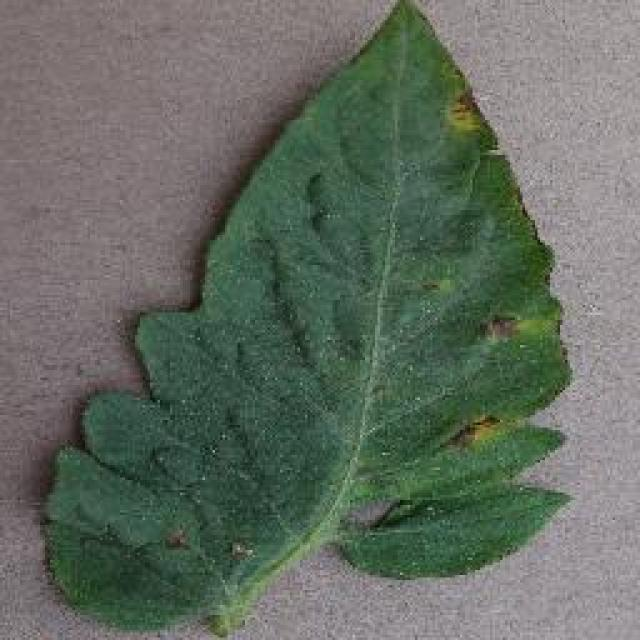Tomato___Bacterial_spot: (38, 0, 584, 638)
